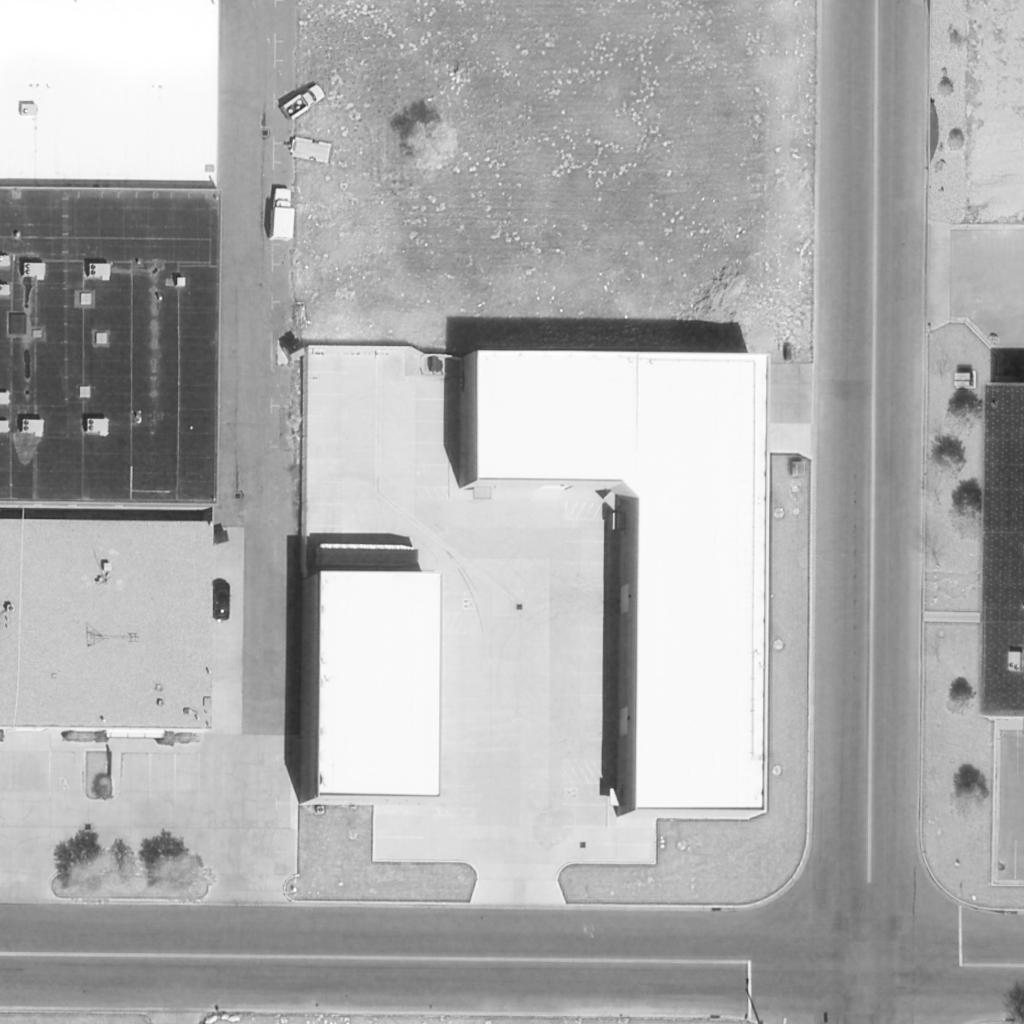vehicle: (267, 186, 299, 244), (280, 85, 328, 121), (214, 578, 232, 620)
